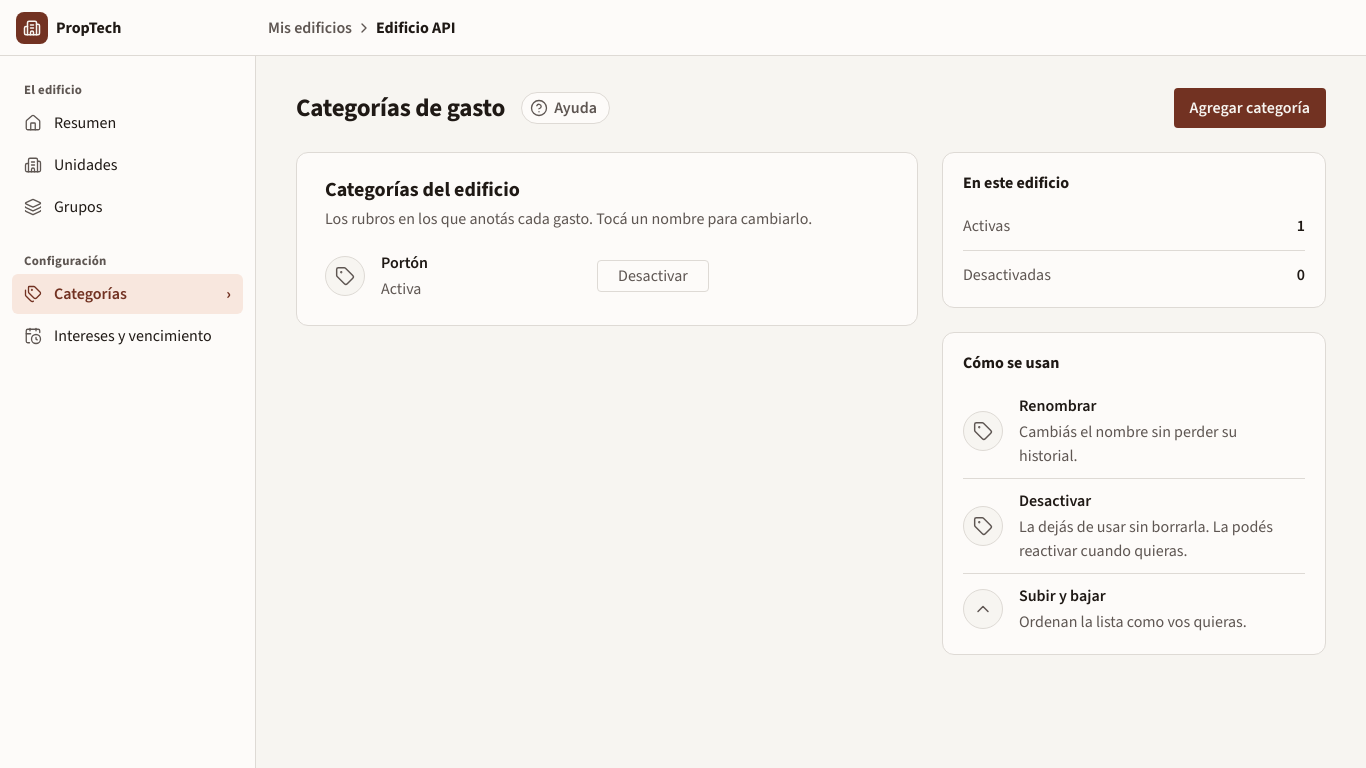
Scenario: PantallaCategorias › tocar el nombre de una categoría abre el panel de renombrar precargado
The width and height of the screenshot is (1366, 768).
Click the button "Portón" at (404, 263), box [381, 253, 428, 272]
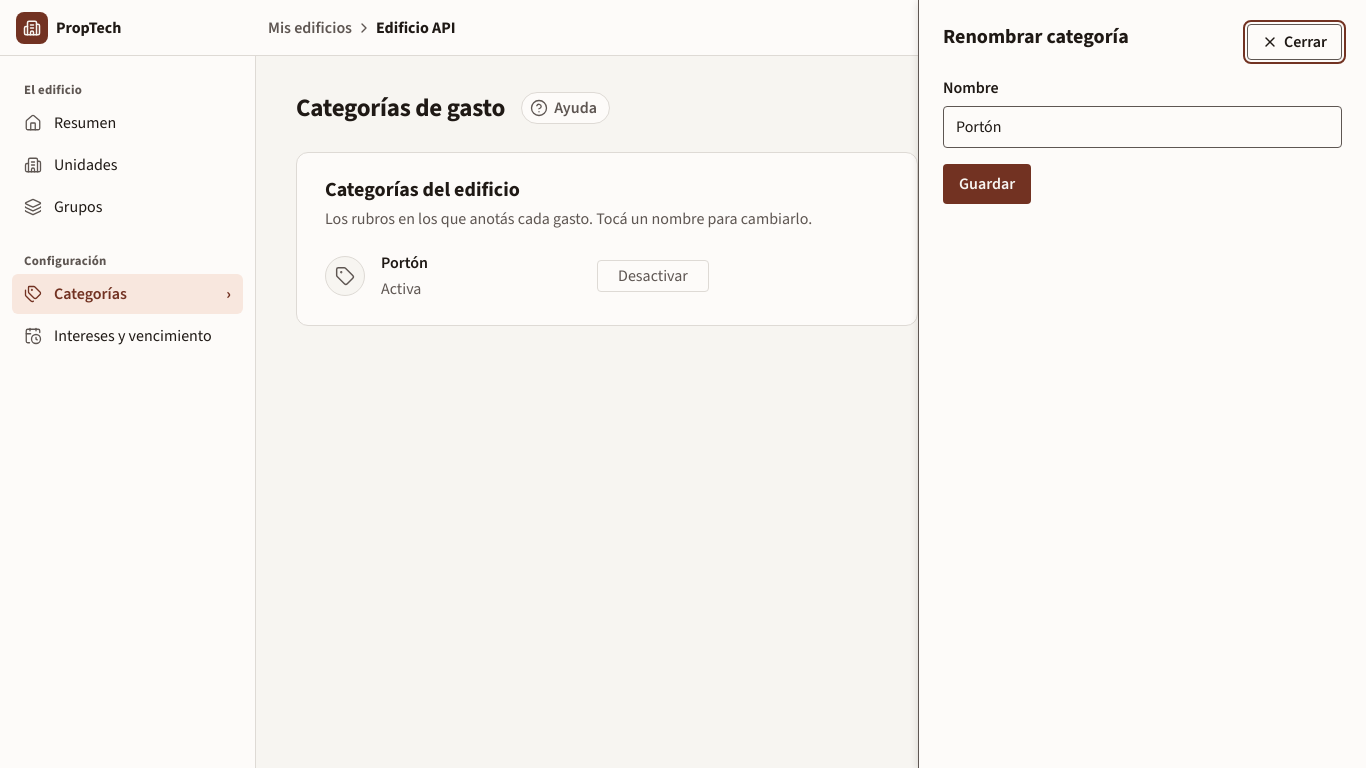
Expected: the field labelled "Nombre" holds "Portón", [943, 106, 1342, 148]
